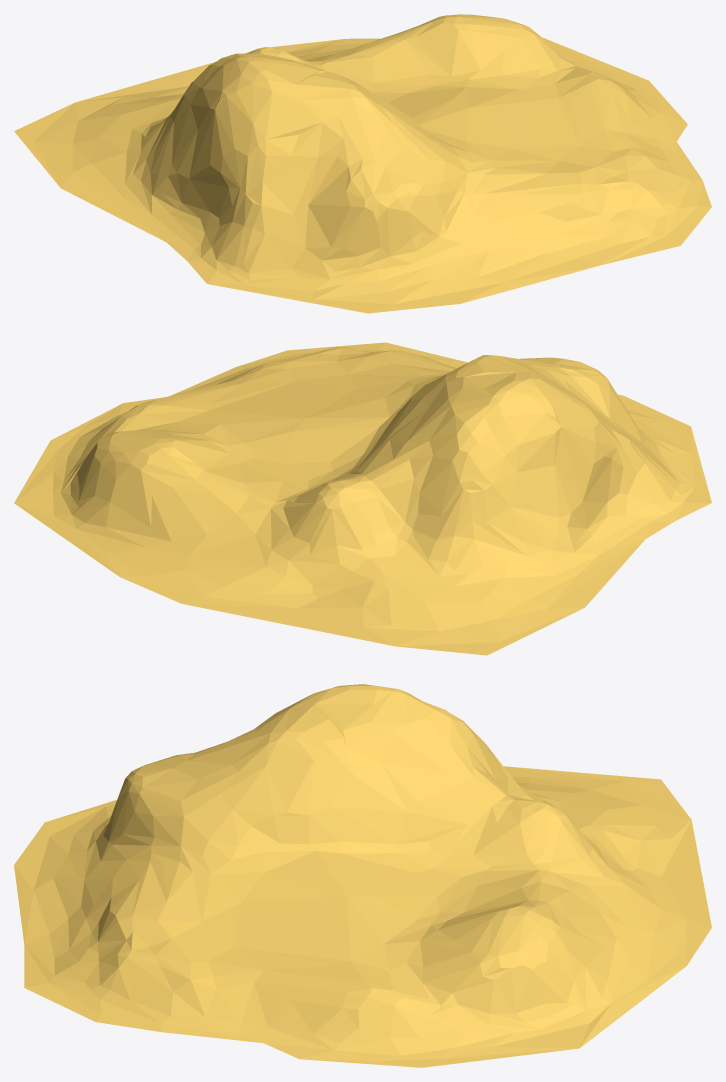
Rendered from Terrain 07.FBX.
3 views of the same model, one above another, from view 1: azimuth 30°, elevation 25°; view 2: azimuth 150°, elevation 25°; view 3: azimuth 270°, elevation 25° (orthographic). The views are drawn at different scales.
Parts seen in each view (by area): view 1: plane; view 2: plane; view 3: plane.
Part boxes in pixels (x1=…): plane: x1=14, y1=14, x2=711, y2=313; plane: x1=14, y1=342, x2=711, y2=655; plane: x1=14, y1=684, x2=711, y2=1067.
Bounding box in the file's own units: 103 × 24.32 × 101.
